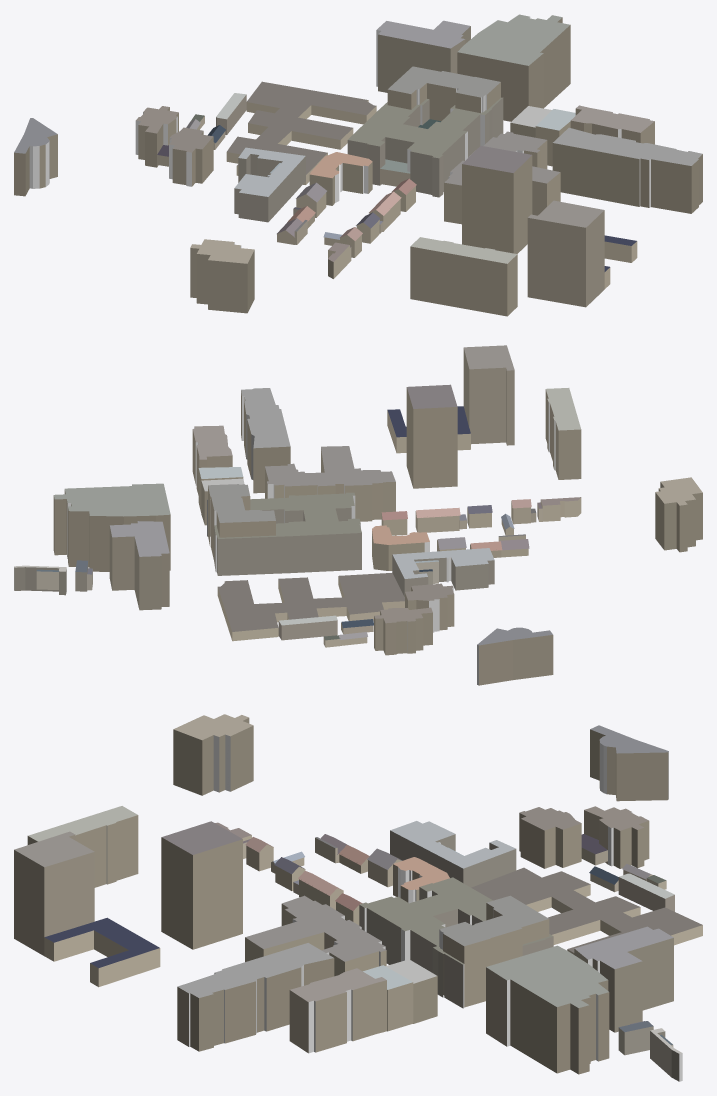
3 renders of one model, top to bottom at view 1: azimuth 30°, elevation 25°; view 2: azimuth 150°, elevation 25°; view 3: azimuth 270°, elevation 25°, orthographic. The views are drawn at different scales.
Parts seen in each view (by area): view 1: tuile; view 2: tuile; view 3: tuile.
Part boxes in pixels (<box>): tuile: <box>14,14,702,316</box>; tuile: <box>14,345,702,685</box>; tuile: <box>14,714,702,1081</box>.
Bounding box in the file's own units: 273 × 50.77 × 270.
